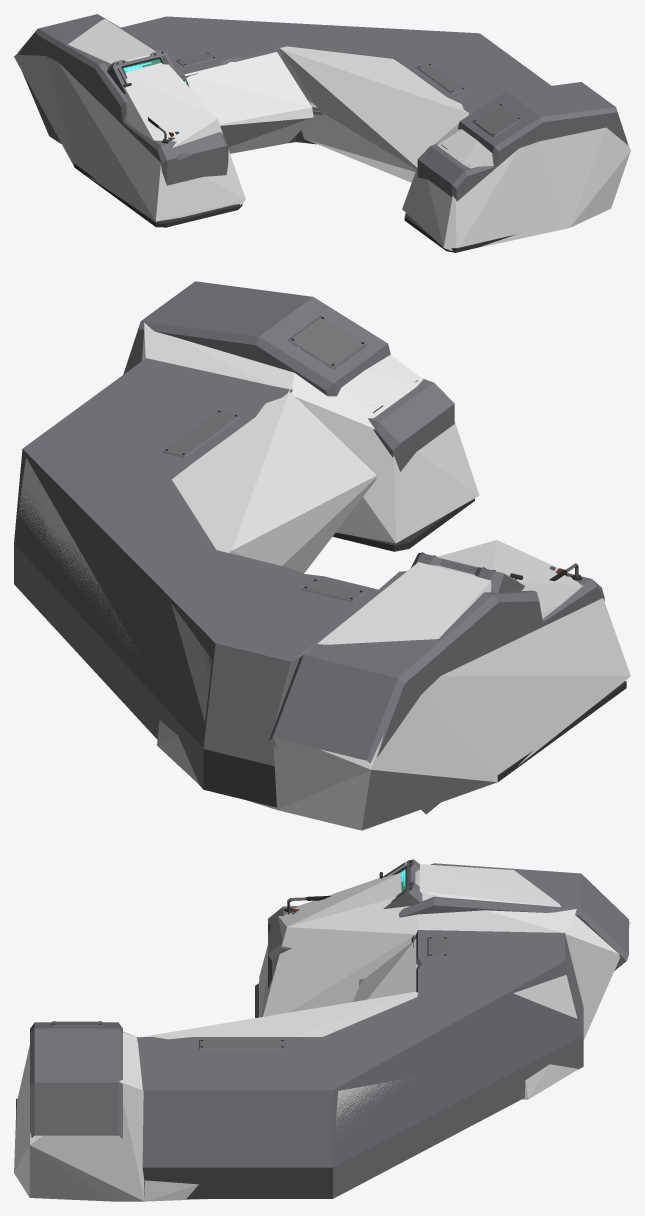
File: SM_Bld_Bridge_Console_Corner_02.fbx
3 views of the same model, one above another, from view 1: azimuth 30°, elevation 25°; view 2: azimuth 150°, elevation 25°; view 3: azimuth 270°, elevation 25° (orthographic). The views are drawn at different scales.
Visible parts, largest first — view 1: SM_Bld_Bridge_Console_Corner_02_ConvexHulls, SM_Bld_Bridge_Console_Corner_02_LOD0; view 2: SM_Bld_Bridge_Console_Corner_02_LOD0, SM_Bld_Bridge_Console_Corner_02_ConvexHulls; view 3: SM_Bld_Bridge_Console_Corner_02_LOD0, SM_Bld_Bridge_Console_Corner_02_ConvexHulls.
Boxes of the visible parts, x1,y1,x2,y2 form: SM_Bld_Bridge_Console_Corner_02_ConvexHulls: [14, 19, 630, 251]; SM_Bld_Bridge_Console_Corner_02_LOD0: [18, 14, 628, 252]; SM_Bld_Bridge_Console_Corner_02_LOD0: [14, 281, 626, 814]; SM_Bld_Bridge_Console_Corner_02_ConvexHulls: [18, 322, 630, 830]; SM_Bld_Bridge_Console_Corner_02_LOD0: [16, 859, 628, 1198]; SM_Bld_Bridge_Console_Corner_02_ConvexHulls: [14, 864, 630, 1201].
Size of the model in its own units: 669 by 579 by 169.
Materials: 1 (1 with a texture image).
